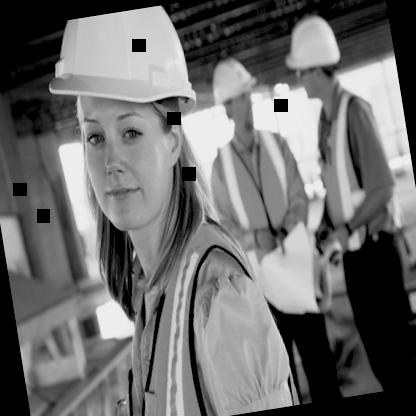helmet: (23, 0, 225, 252), (276, 3, 352, 112), (204, 47, 268, 138)
